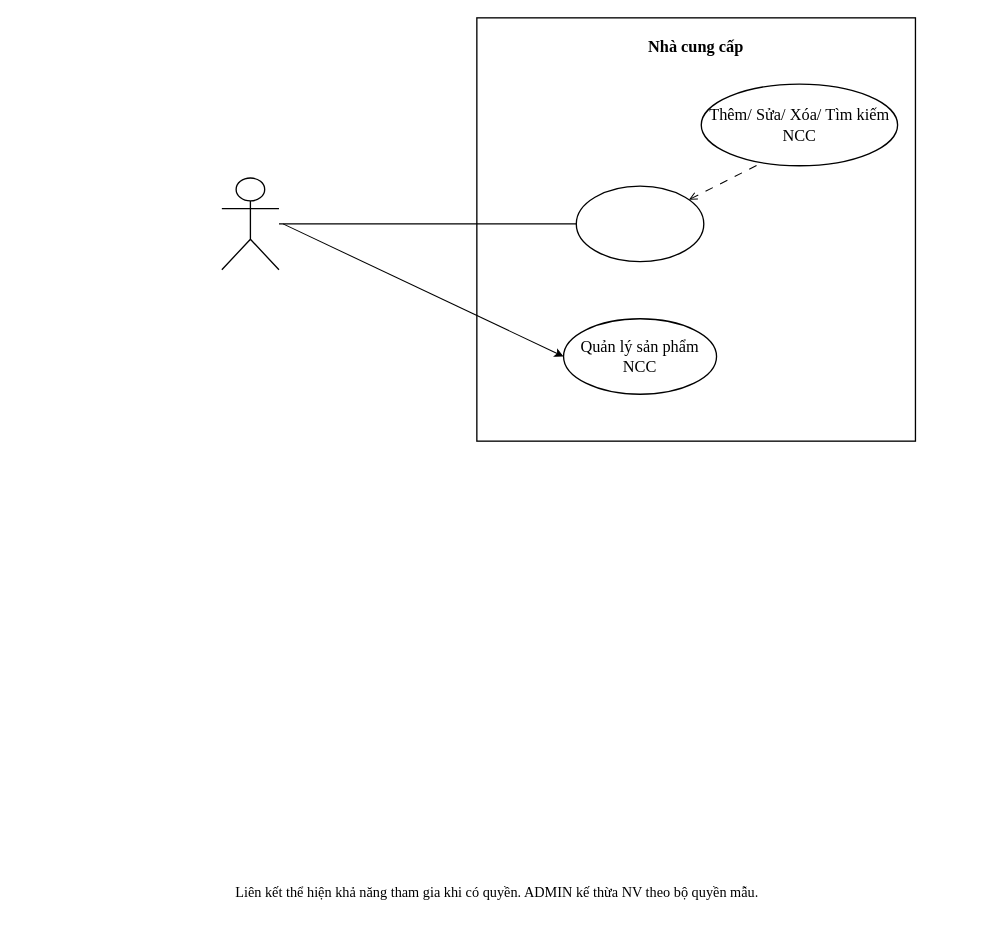
Some shapes in this 993 by 930 pixel diagram are drawn without their labels. The box of each missing label's shape, as (x1, y1, x2, y2) in pixels:
Nhân viên bán hàng: (221, 177, 279, 270)
Quản lý nhà cung cấp: (575, 185, 704, 262)
